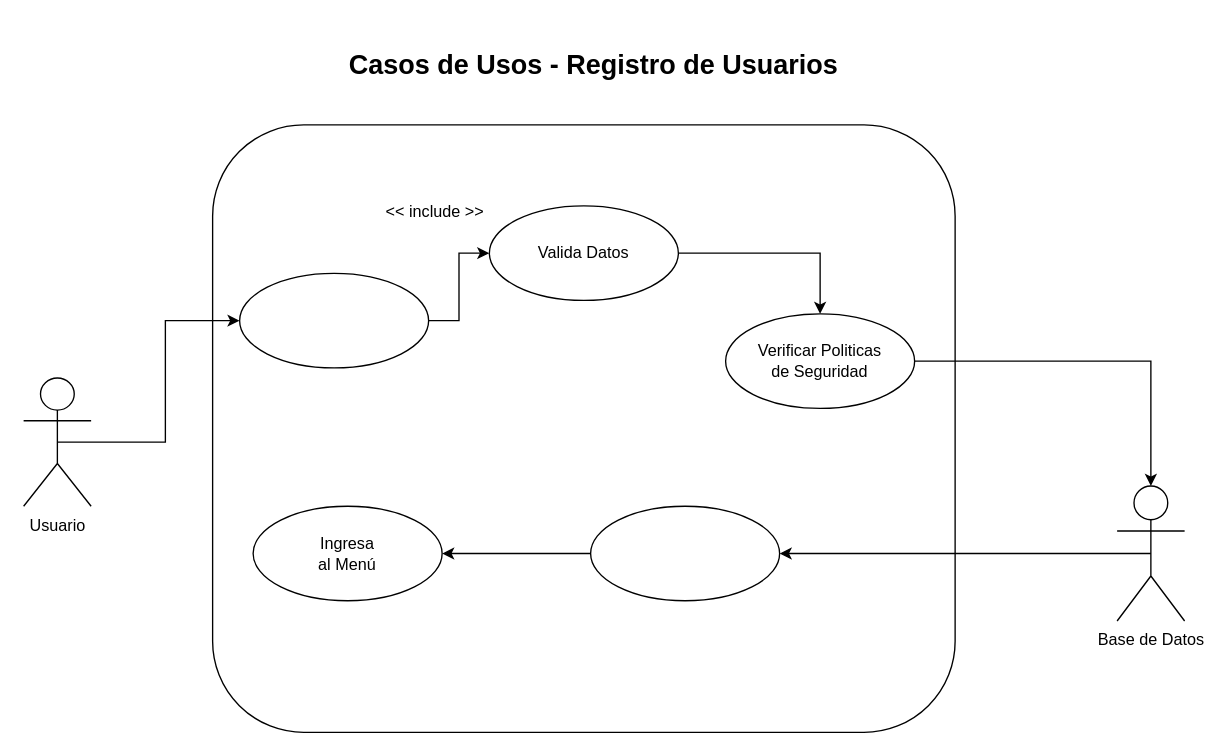
Image size: 1227x756. Some labels were removed from this diagram. The shapes that lost their labels are listed below. From the top down, each one's centre as x and y in pixels, then its label:
At point (333, 320): "Ingresa Credenciales".
At point (684, 553): "Registro".
